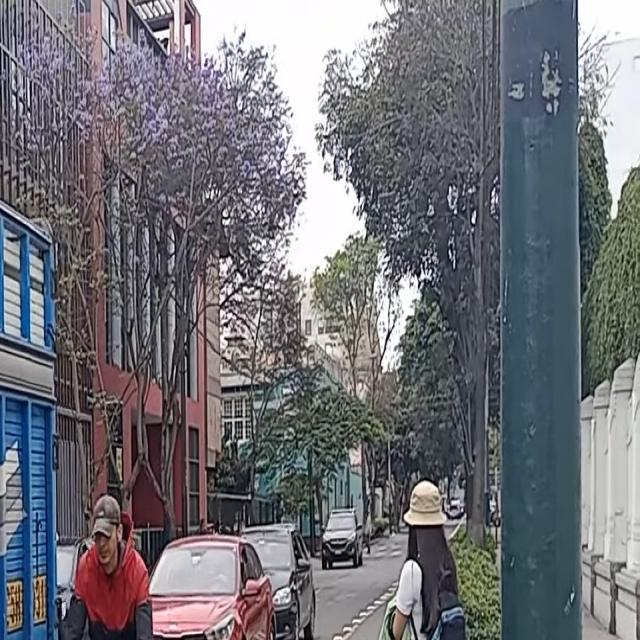car: (142, 533, 279, 640), (240, 525, 318, 640), (322, 508, 365, 566)
truck: (0, 0, 59, 640)
